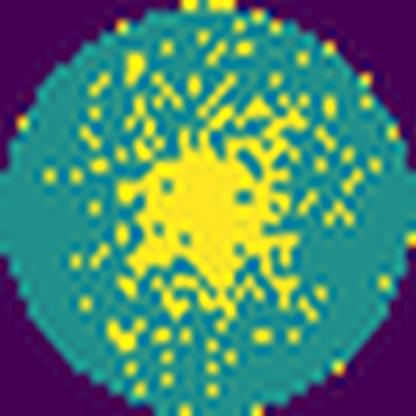Center: (119, 125, 294, 311)
